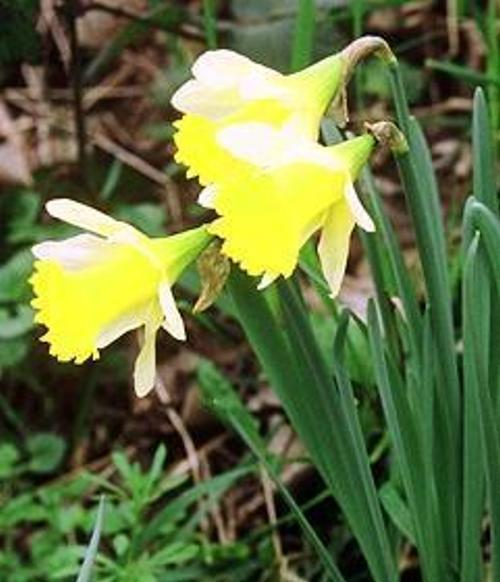flower1: (28, 198, 213, 396), (212, 128, 382, 286), (171, 44, 357, 182)
